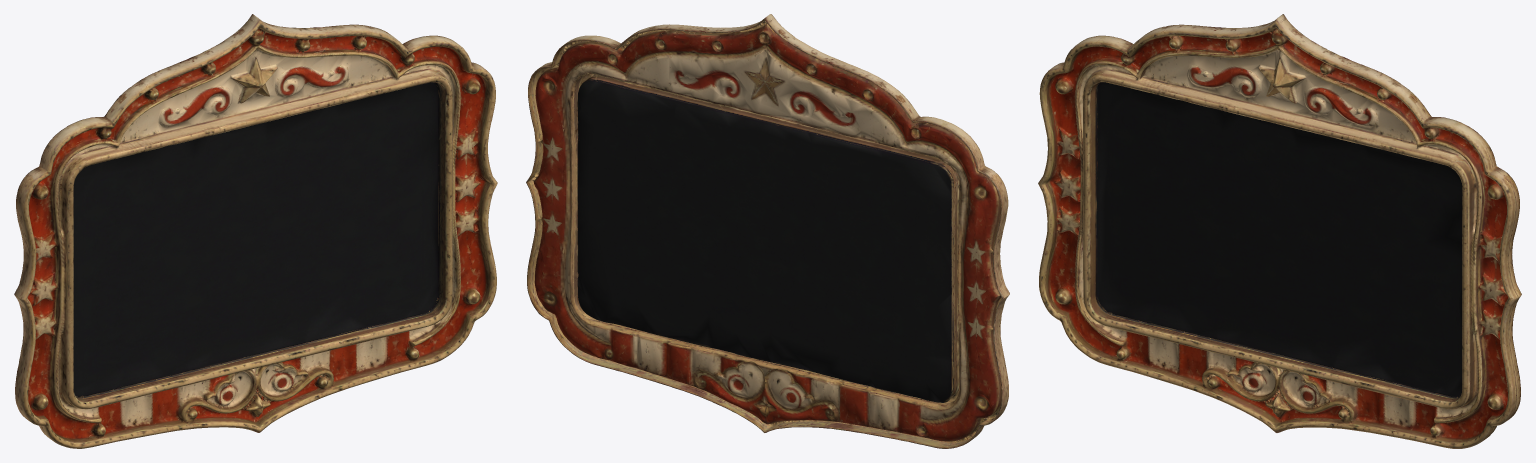
File: Meshy_AI_Vintage_Circus_Chalkb_0515212613_texture.fbx
3 views of the same model, side by side, from view 1: azimuth 30°, elevation 25°; view 2: azimuth 150°, elevation 25°; view 3: azimuth 330°, elevation 25° (orthographic).
Visible parts, largest first — view 1: Mesh_0; view 2: Mesh_0; view 3: Mesh_0.
Boxes of the visible parts, x1,y1,x2,y2 form: Mesh_0: [14, 14, 497, 448]; Mesh_0: [526, 14, 1009, 448]; Mesh_0: [1038, 14, 1521, 448].
Bounding box in the file's own units: 191 × 159 × 6.79.
Materials: 1 (1 with a texture image).
